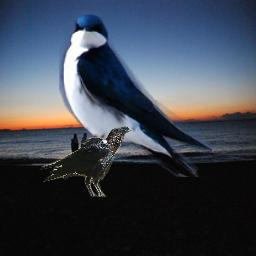Crow: (40, 126, 131, 197)
Swallow: (59, 10, 212, 177)
